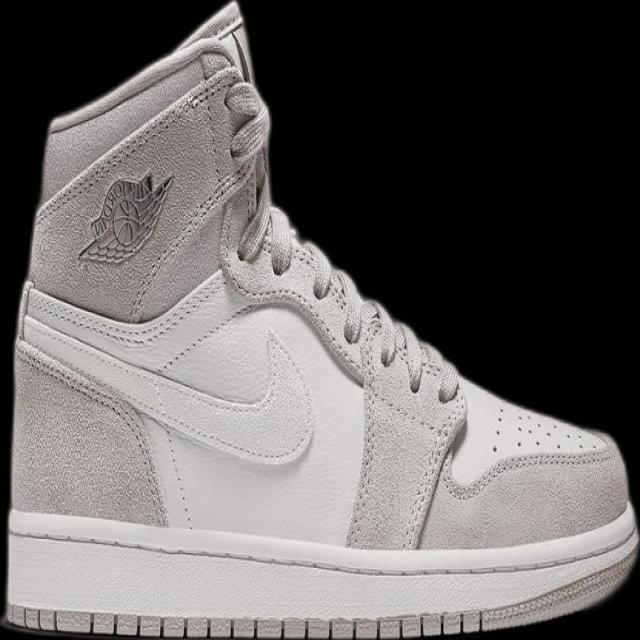J1_InsoleChar: (2, 0, 638, 639)
J1_ShoeLogo: (76, 169, 175, 265)
J1_StitchPattern: (226, 205, 468, 549), (16, 281, 315, 466), (3, 554, 637, 639), (34, 54, 266, 273), (5, 508, 638, 584), (14, 332, 170, 527), (4, 604, 487, 639), (446, 444, 619, 501), (487, 401, 603, 456)
